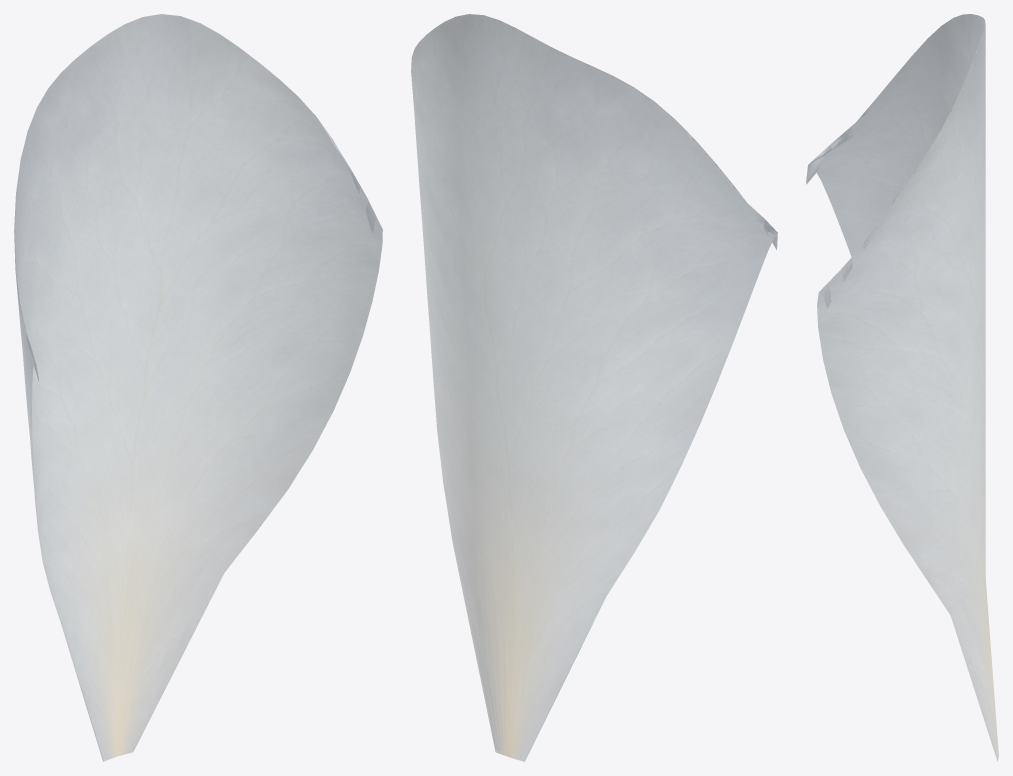
The model's file is inner_04.glb.
The picture shows the model from 3 angles, left to right: view 1: azimuth 30°, elevation 25°; view 2: azimuth 150°, elevation 25°; view 3: azimuth 270°, elevation 25°; orthographic projection.
Parts seen in each view (by area): view 1: inner_04; view 2: inner_04; view 3: inner_04.
Part boxes in pixels (x1,y1,x2,y2): inner_04: [14, 14, 382, 761]; inner_04: [411, 14, 777, 761]; inner_04: [806, 14, 998, 761].
Bounding box in the file's own units: 0.0329 × 0.0663 × 0.0157.
1 material, 1 textured.
